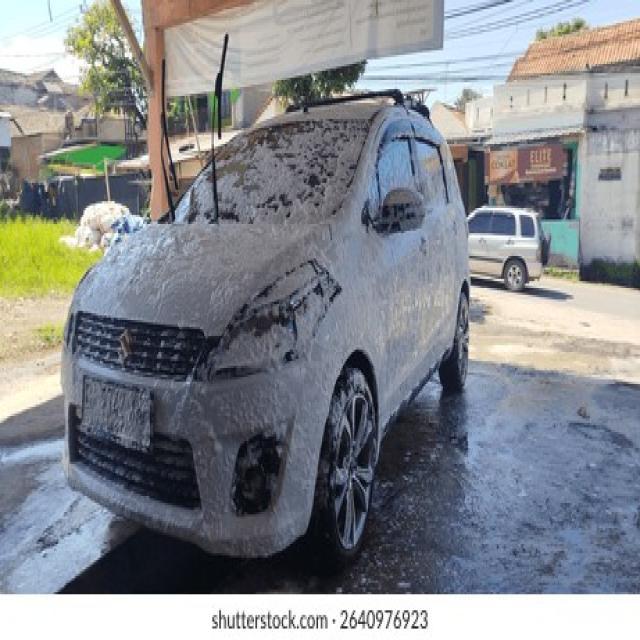suzuki: (114, 329, 134, 367)
